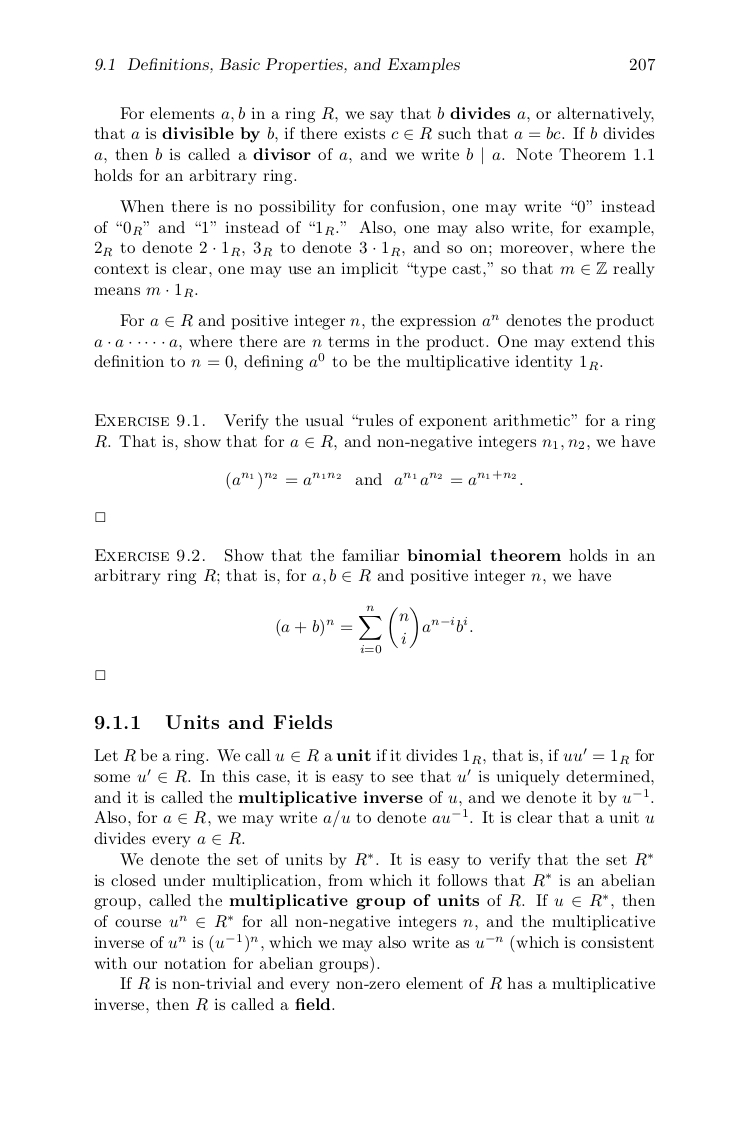formula: (276, 604, 472, 654), (226, 469, 522, 490)
